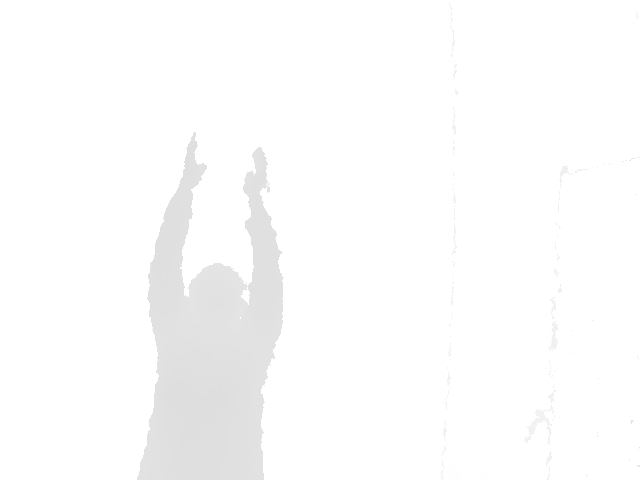hand: (176, 133, 209, 192), (242, 146, 271, 202)
head: (187, 262, 250, 319)
person: (135, 132, 285, 480)
